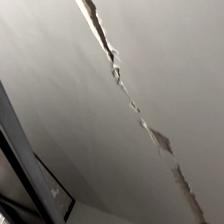Medium: (79, 1, 209, 220)
